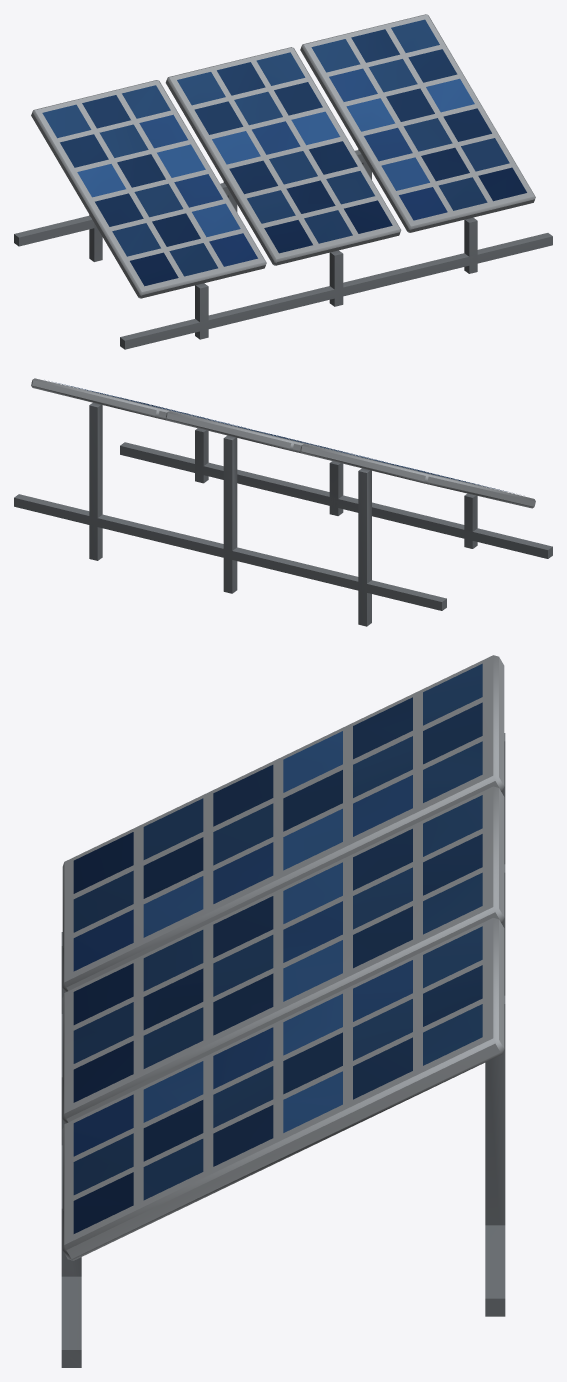
The model's file is panel_solar_fila.glb.
The picture shows the model from 3 angles, top to bottom: view 1: azimuth 30°, elevation 25°; view 2: azimuth 150°, elevation 25°; view 3: azimuth 270°, elevation 25°; orthographic projection. The views are drawn at different scales.
Visible parts, largest first — view 1: panel_solar_fila; view 2: panel_solar_fila; view 3: panel_solar_fila.
Part boxes in pixels (x1=…): panel_solar_fila: x1=14, y1=14, x2=552, y2=349; panel_solar_fila: x1=14, y1=378, x2=552, y2=626; panel_solar_fila: x1=61, y1=655, x2=505, y2=1367.
Size of the model in its own units: 3.5 by 1.28 by 1.57.
